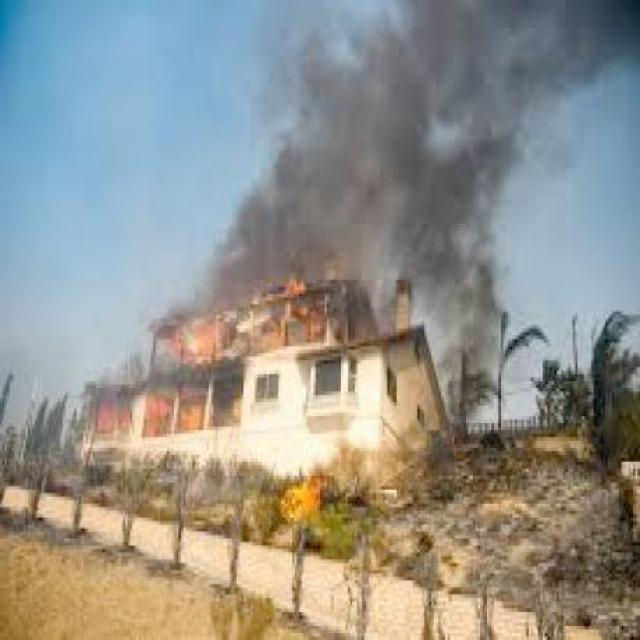Fire: (150, 280, 354, 364), (76, 381, 252, 439), (284, 474, 329, 524)
Smoke: (202, 2, 640, 278), (378, 258, 522, 398)
